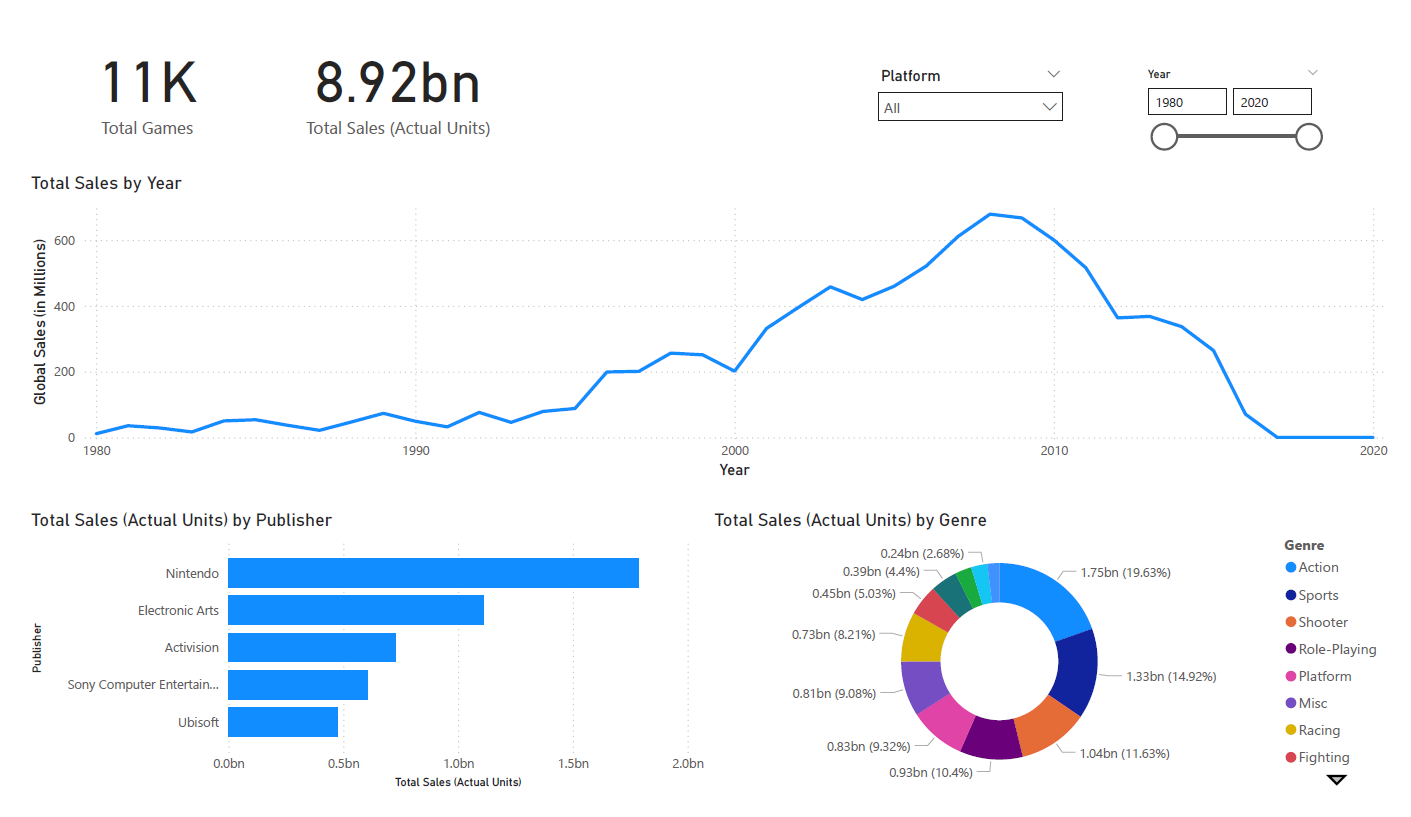

The page's visual inventory and layout, read from the dashboard file:
{"tool":"powerbi","page":{"name":"Page 1","canvas":[1280,720],"ordinal":0},"visuals":[{"type":"card","fields":{"Values":["Fact_Sales.Total Games"]},"box":[0,0,227.5,115],"z":1},{"type":"card","fields":{"Values":["Fact_Sales.Total Sales (Actual Units)"]},"box":[227.5,0,242.5,115],"z":3},{"type":"lineChart","fields":{"Category":["Dim_Date.Year"],"Y":["Fact_Sales.Total Sales"]},"box":[0,138,1280,292],"z":4},{"type":"barChart","fields":{"Category":["Dim_Publisher.Publisher"],"Y":["Fact_Sales.Total Sales (Actual Units)"]},"box":[0,454,640,266],"z":5},{"type":"donutChart","fields":{"Category":["Dim_Genre.Genre"],"Y":["Fact_Sales.Total Sales (Actual Units)"]},"box":[640,454,640,266],"z":6},{"type":"slicer","fields":{"Values":["Dim_Platform.Platform"]},"box":[788.3,35,193.3,103.3],"z":7},{"type":"slicer","fields":{"Values":["Dim_Date.Year"]},"box":[1038.3,35,185,103.3],"z":8}]}

Visuals, with their boxes in screenshot pixels (x1, y1, x2, y2), scaled from the page's 1280x720 canvas onto the 1411x817 screenshot:
card - Fact_Sales.Total Games: rect(0, 0, 251, 130)
card - Fact_Sales.Total Sales (Actual Units): rect(251, 0, 518, 130)
lineChart - Dim_Date.Year x Fact_Sales.Total Sales: rect(0, 157, 1410, 488)
barChart - Dim_Publisher.Publisher x Fact_Sales.Total Sales (Actual Units): rect(0, 515, 706, 816)
donutChart - Dim_Genre.Genre x Fact_Sales.Total Sales (Actual Units): rect(706, 515, 1410, 816)
slicer - Dim_Platform.Platform: rect(869, 40, 1082, 157)
slicer - Dim_Date.Year: rect(1145, 40, 1348, 157)
